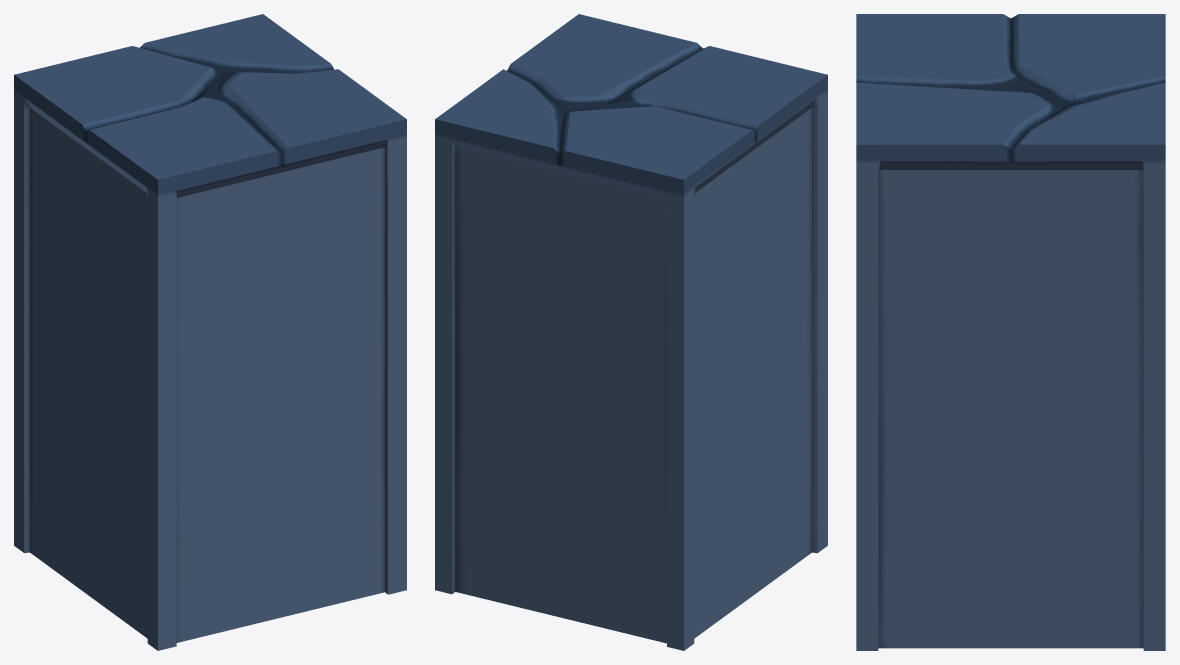
Rendered from TileV2Tall.fbx.
3 views of the same model, side by side, from view 1: azimuth 30°, elevation 25°; view 2: azimuth 150°, elevation 25°; view 3: azimuth 270°, elevation 25° (orthographic). The views are drawn at different scales.
Visible parts, largest first — view 1: tile; view 2: tile; view 3: tile.
Part boxes in pixels (x1,y1,x2,y2): tile: (14, 14, 406, 650); tile: (435, 14, 827, 650); tile: (856, 14, 1165, 650).
Bounding box in the file's own units: 5 × 9.04 × 5.
